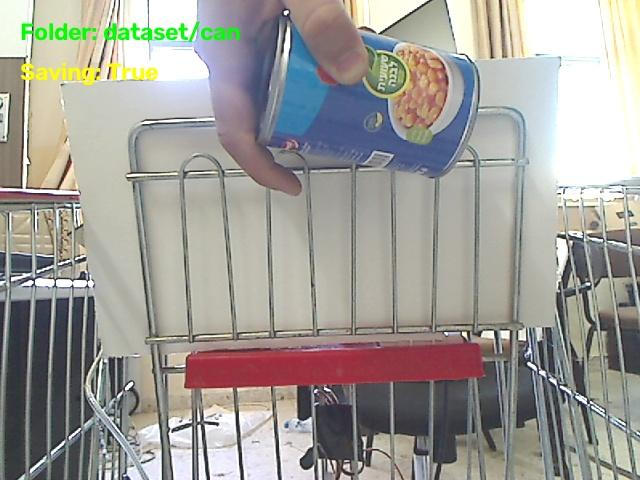can: (258, 16, 478, 176)
